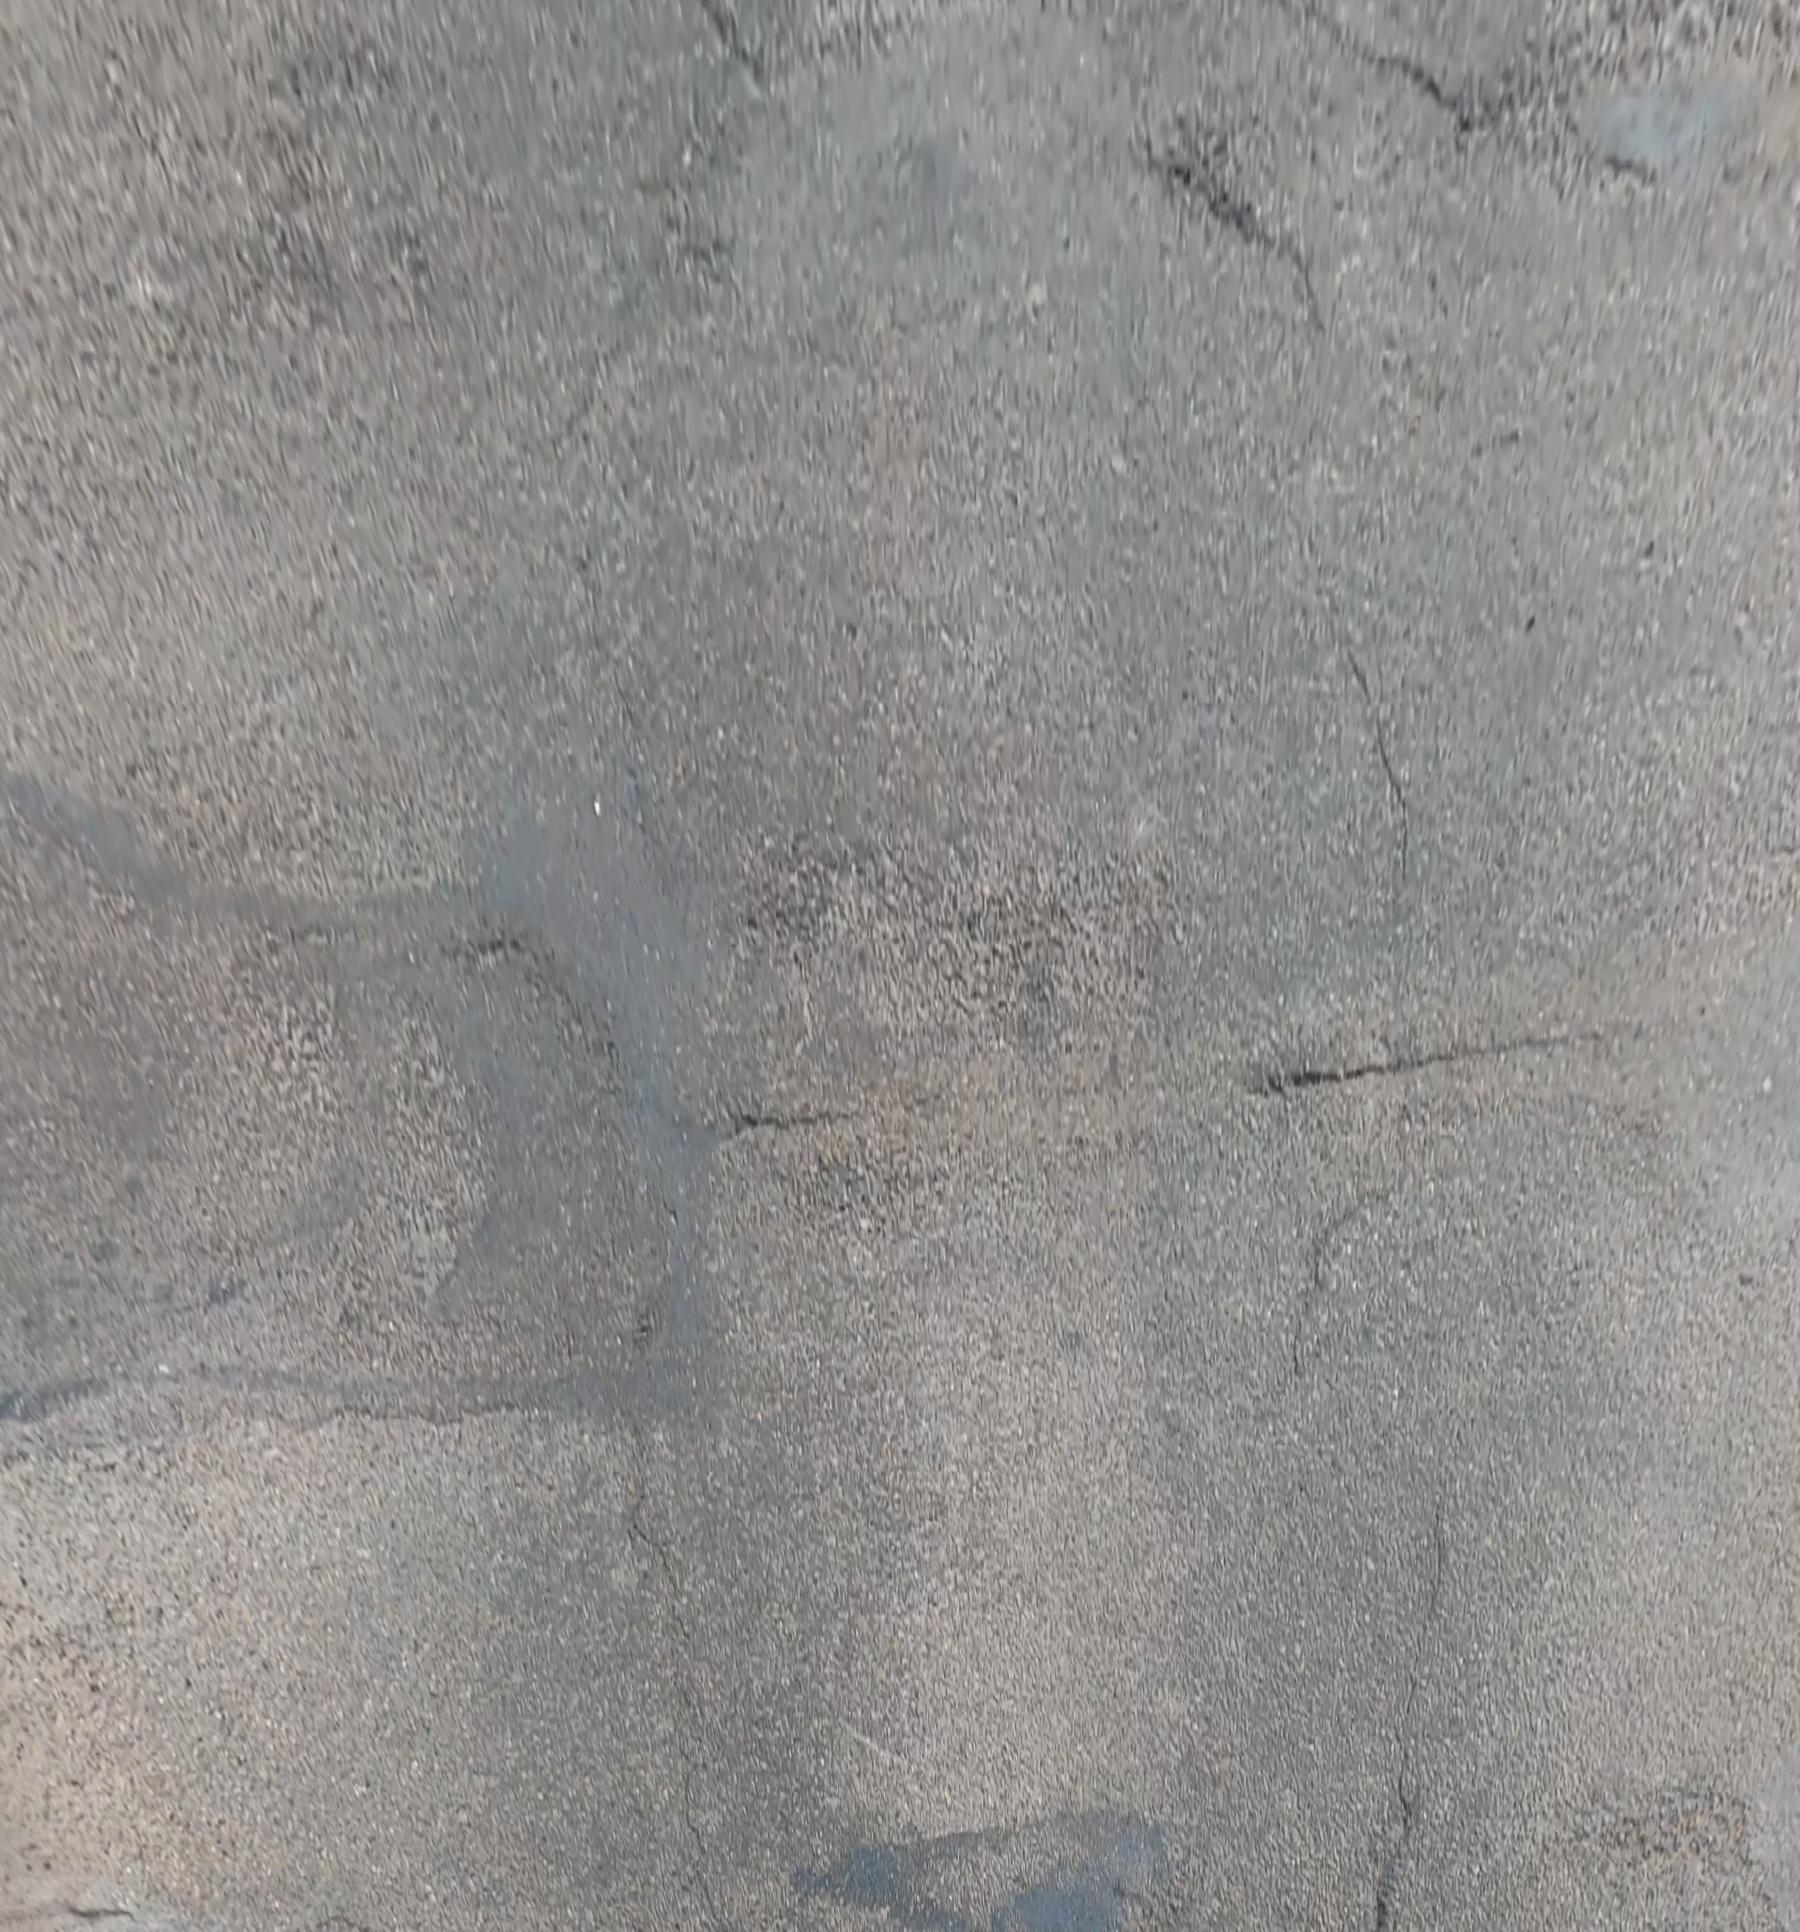pothole_patch_good: (3, 771, 717, 1423), (795, 1817, 1166, 1932)
